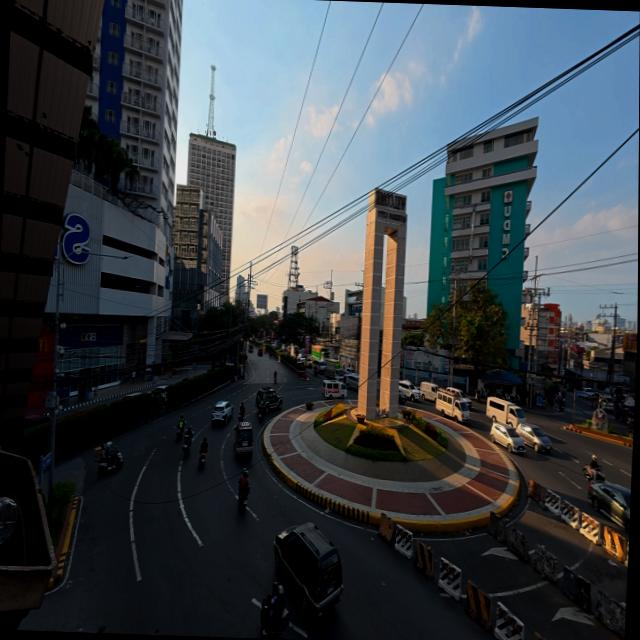car: (273, 522, 342, 617), (587, 482, 630, 538), (489, 423, 524, 454), (516, 423, 550, 452), (255, 387, 282, 413), (211, 400, 231, 425), (398, 380, 419, 401), (24, 414, 49, 428), (150, 385, 166, 403), (598, 396, 614, 412), (625, 417, 636, 439), (575, 388, 595, 398), (345, 375, 358, 389), (120, 392, 141, 400), (333, 369, 345, 382), (398, 388, 406, 404), (295, 357, 304, 370), (304, 355, 313, 367), (343, 368, 357, 375), (247, 344, 252, 352), (257, 347, 261, 356)
motorcycle: (260, 596, 288, 639), (97, 447, 122, 477), (583, 465, 603, 482), (237, 483, 248, 510), (182, 434, 192, 455), (474, 389, 486, 403), (198, 452, 205, 469), (176, 425, 183, 441), (257, 408, 262, 423), (237, 412, 244, 422), (559, 400, 563, 412), (272, 374, 276, 384)
trucks: (310, 345, 328, 361), (325, 360, 339, 379)
vans: (485, 397, 524, 427), (435, 388, 468, 422), (234, 422, 252, 457), (445, 387, 471, 408), (321, 381, 346, 399), (419, 382, 436, 401), (313, 360, 325, 374)
